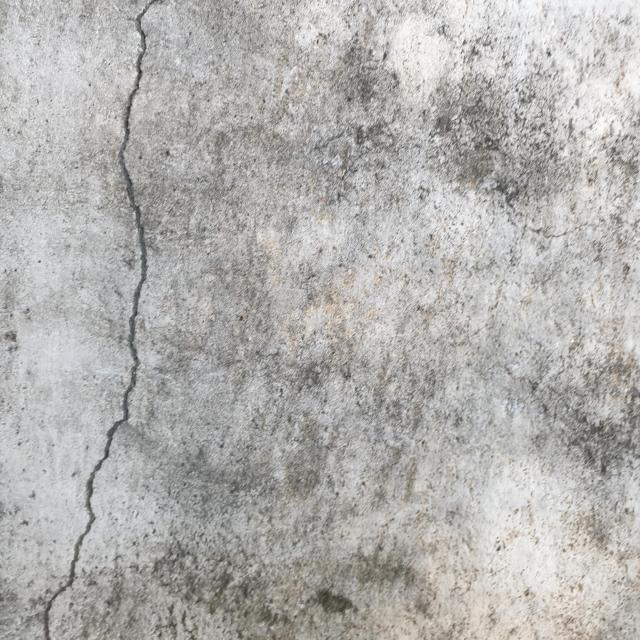SurfaceCrack: (25, 0, 196, 639)
